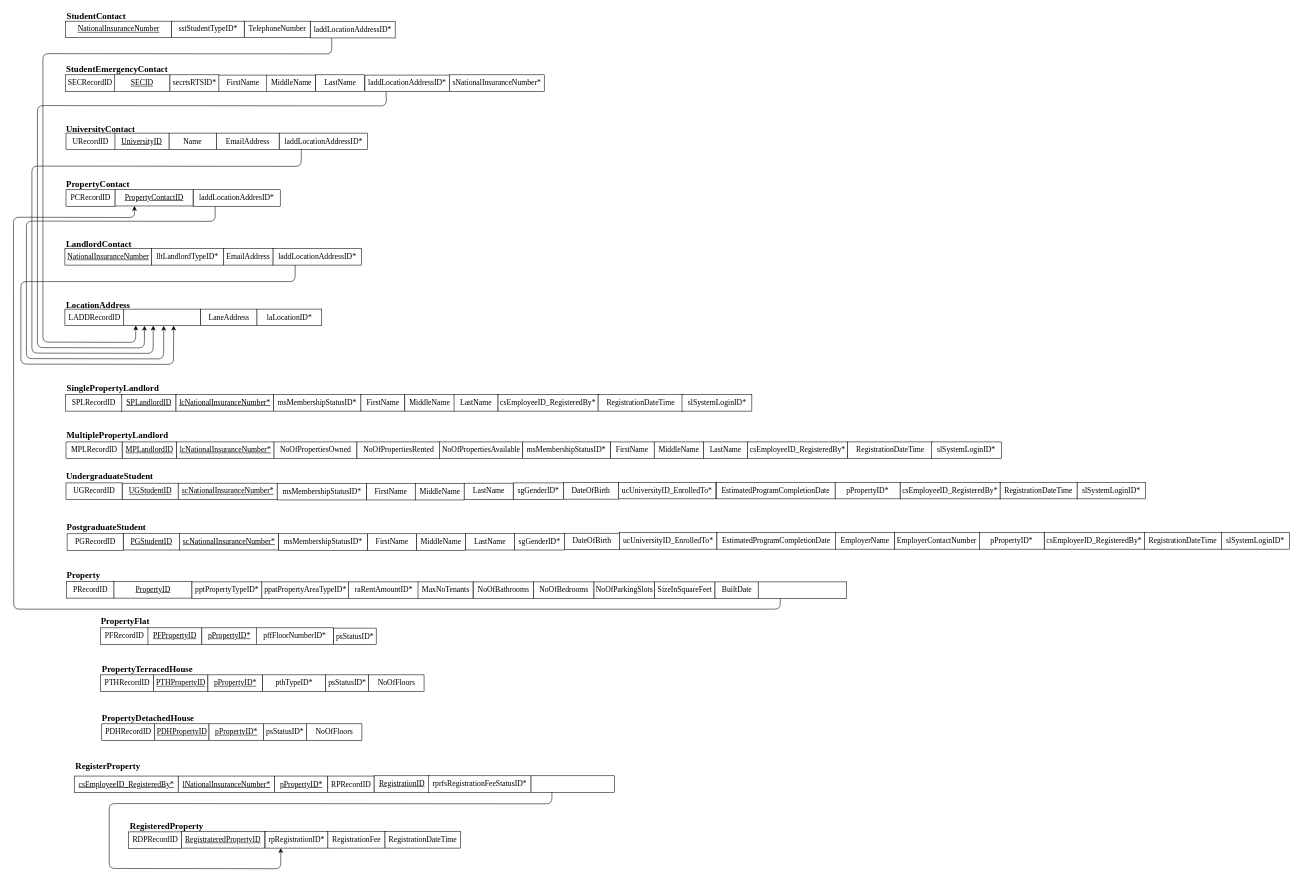
This 1299x883 diagram has some shape labels left out. Here are the shapes that lost their labels. From the top down, the centre of each, then its label:
the point at 162,317: LocationAddressID
the point at 802,589: pcPropertyContactID*
the point at 572,783: rpRegisteredPropertyID*
